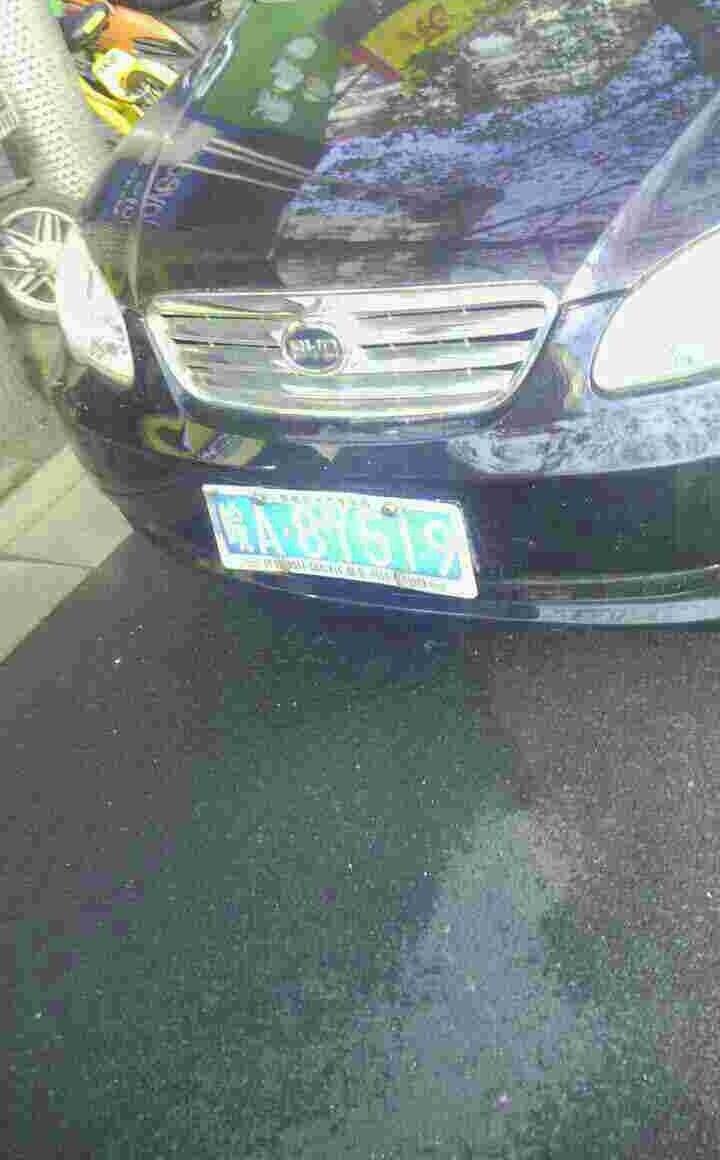license_plate: (212, 489, 460, 582)
